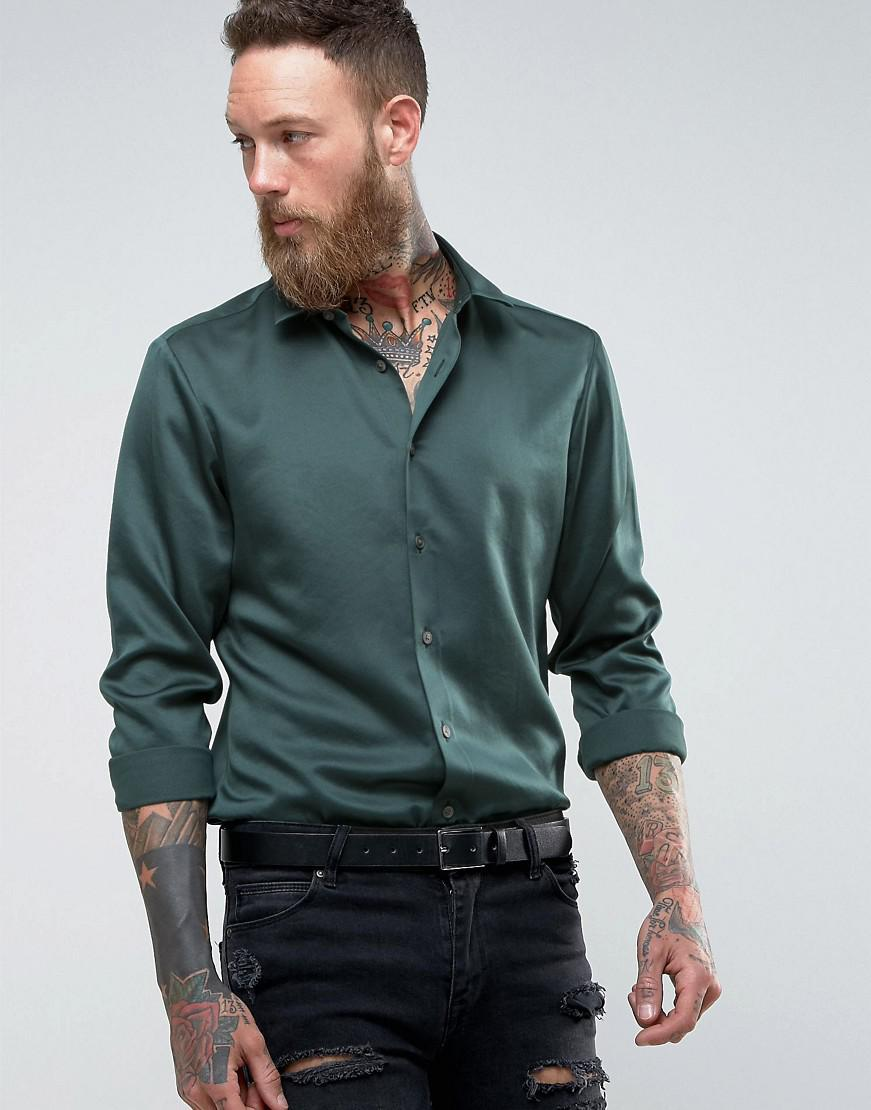teeshirt: (64, 274, 715, 846)
